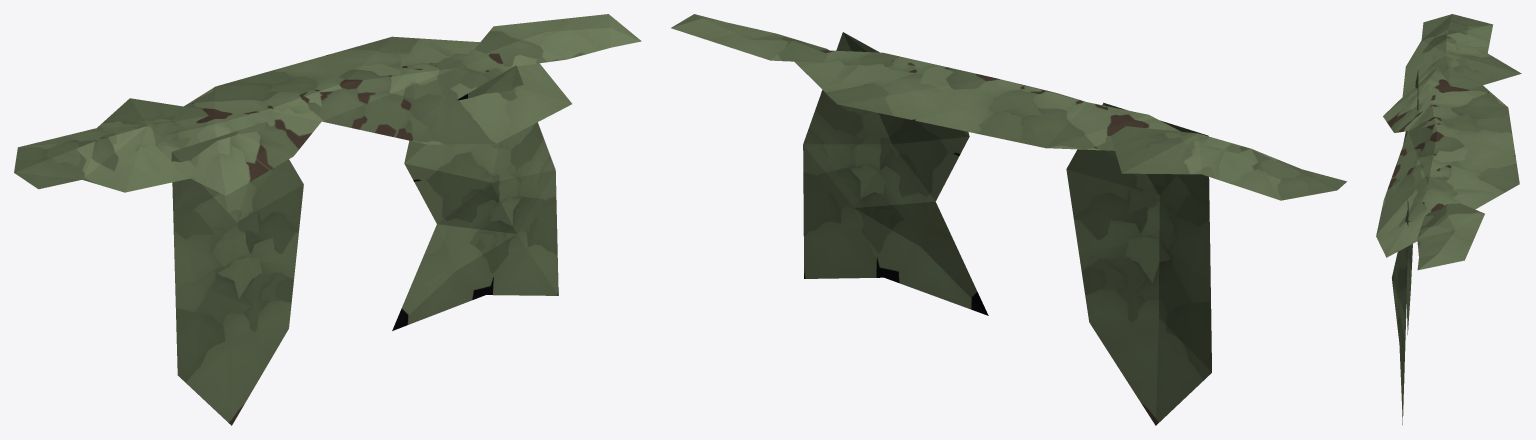
File: SM_Gen_Env_Ivy_Draped_01.gltf
The picture shows the model from 3 angles, left to right: view 1: azimuth 30°, elevation 25°; view 2: azimuth 150°, elevation 25°; view 3: azimuth 270°, elevation 25°; orthographic projection. The views are drawn at different scales.
Visible parts, largest first — view 1: SM_Gen_Env_Ivy_Draped_01; view 2: SM_Gen_Env_Ivy_Draped_01; view 3: SM_Gen_Env_Ivy_Draped_01.
Boxes of the visible parts, x1=… form: SM_Gen_Env_Ivy_Draped_01: x1=14, y1=14, x2=641, y2=425; SM_Gen_Env_Ivy_Draped_01: x1=671, y1=14, x2=1346, y2=425; SM_Gen_Env_Ivy_Draped_01: x1=1376, y1=14, x2=1521, y2=424.
Size of the model in its own units: 3.18 by 1.49 by 0.7691.
Materials: 1 (1 with a texture image).
